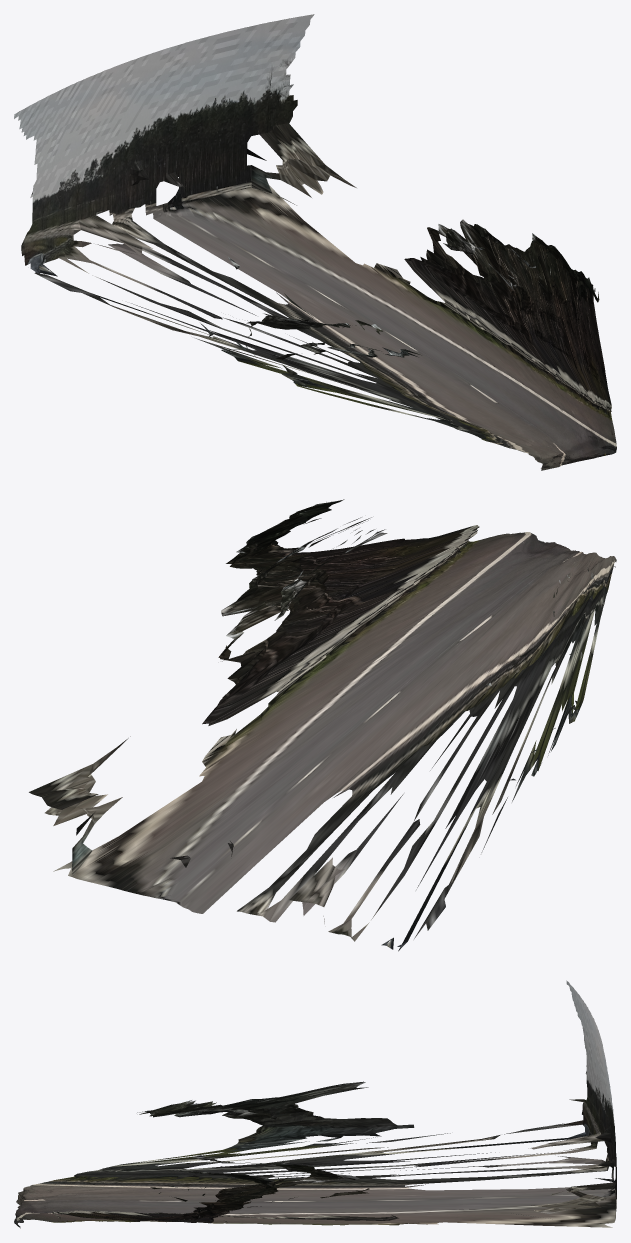
The picture shows the model from 3 angles, top to bottom: view 1: azimuth 30°, elevation 25°; view 2: azimuth 150°, elevation 25°; view 3: azimuth 270°, elevation 25°; orthographic projection. The views are drawn at different scales.
Visible parts, largest first — view 1: defaultobject; view 2: defaultobject; view 3: defaultobject.
Part boxes in pixels (x1=…): defaultobject: x1=14, y1=14, x2=616, y2=470; defaultobject: x1=29, y1=499, x2=616, y2=951; defaultobject: x1=14, y1=980, x2=616, y2=1228.
Size of the model in its own units: 25.56 by 12.32 by 44.35.
1 material, 1 textured.
